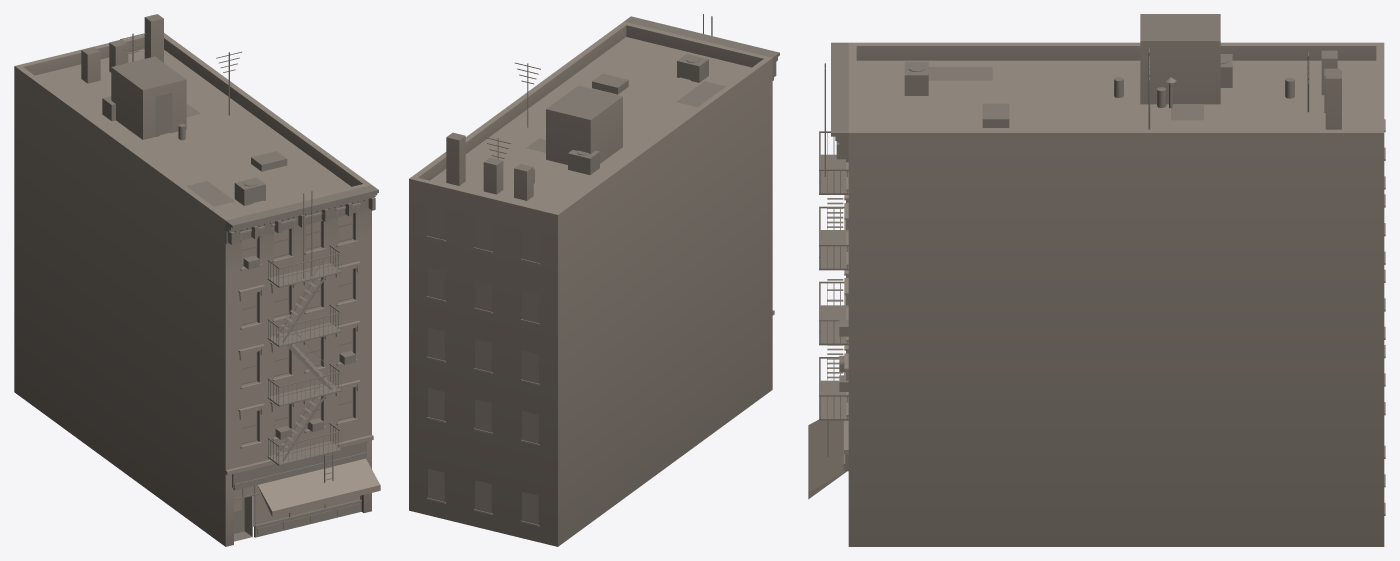
File: tenement_f.glb
The picture shows the model from 3 angles, left to right: view 1: azimuth 30°, elevation 25°; view 2: azimuth 150°, elevation 25°; view 3: azimuth 270°, elevation 25°; orthographic projection. The views are drawn at different scales.
Parts seen in each view (by area): view 1: tenement_f; view 2: tenement_f; view 3: tenement_f.
Part boxes in pixels (box(x1,y1,x2,y2)): tenement_f: box(14, 14, 380, 546); tenement_f: box(409, 14, 779, 546); tenement_f: box(808, 14, 1385, 546).
Size of the model in its own units: 8 by 19.74 by 21.55.
